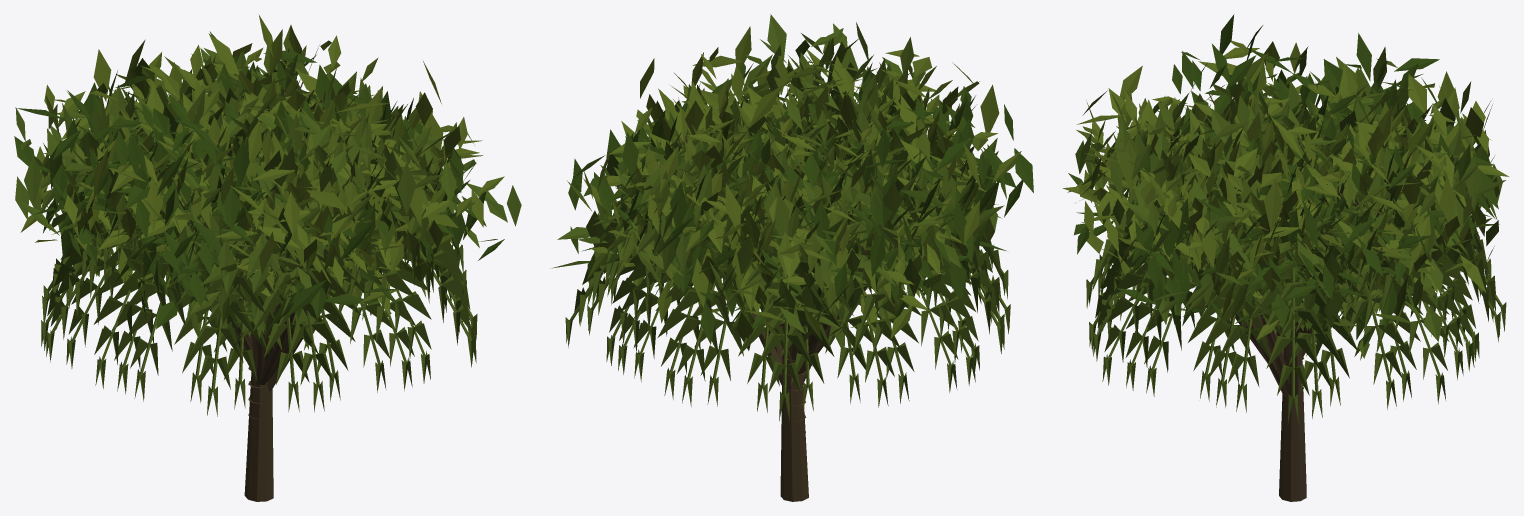
File: vegetation-prototypes.glb
The picture shows the model from 3 angles, left to right: view 1: azimuth 30°, elevation 25°; view 2: azimuth 150°, elevation 25°; view 3: azimuth 270°, elevation 25°; orthographic projection. The views are drawn at different scales.
Visible parts, largest first — view 1: dense-2-leaf2, trimmed-1-leaf1, trimmed-2-leaf2, trimmed-0-leaf0, dense-1-leaf1, dense-0-leaf0, palm-1-palm, palm-0-palm, palm-2-palm, trimmed-1-bark, trimmed-2-bark, pruned-1-bark; view 2: dense-2-leaf2, trimmed-2-leaf2, dense-1-leaf1, trimmed-1-leaf1, trimmed-0-leaf0, dense-0-leaf0, palm-1-palm, palm-2-palm, palm-0-palm, pruned-1-bark, trimmed-2-bark, trimmed-0-bark (+1 smaller); view 3: dense-2-leaf2, dense-1-leaf1, trimmed-0-leaf0, trimmed-1-leaf1, trimmed-2-leaf2, dense-0-leaf0, palm-0-palm, palm-1-palm, palm-2-palm, pruned-1-bark, trimmed-2-bark, trimmed-1-bark (+1 smaller).
Part boxes in pixels (<box>): dense-2-leaf2: <box>36,14,504,306</box>; trimmed-1-leaf1: <box>15,61,521,349</box>; trimmed-2-leaf2: <box>20,39,482,316</box>; trimmed-0-leaf0: <box>14,31,497,307</box>; dense-1-leaf1: <box>34,46,456,351</box>; dense-0-leaf0: <box>34,50,504,328</box>; palm-1-palm: <box>43,165,475,416</box>; palm-0-palm: <box>41,178,476,411</box>; palm-2-palm: <box>42,178,477,409</box>; trimmed-1-bark: <box>246,181,366,501</box>; trimmed-2-bark: <box>210,291,302,501</box>; pruned-1-bark: <box>237,82,338,499</box>; dense-2-leaf2: <box>583,26,979,340</box>; trimmed-2-leaf2: <box>601,49,1021,350</box>; dense-1-leaf1: <box>550,14,1006,354</box>; trimmed-1-leaf1: <box>557,22,1001,348</box>; trimmed-0-leaf0: <box>610,64,1033,344</box>; dense-0-leaf0: <box>568,80,1023,328</box>; palm-1-palm: <box>587,138,1008,421</box>; palm-2-palm: <box>565,133,1010,411</box>; palm-0-palm: <box>578,162,1004,412</box>; pruned-1-bark: <box>658,140,839,501</box>; trimmed-2-bark: <box>784,181,928,501</box>; trimmed-0-bark: <box>752,170,936,498</box>; dense-2-leaf2: <box>1063,64,1509,340</box>; dense-1-leaf1: <box>1080,80,1505,358</box>; trimmed-0-leaf0: <box>1117,14,1499,329</box>; trimmed-1-leaf1: <box>1076,46,1502,328</box>; trimmed-2-leaf2: <box>1077,40,1491,333</box>; dense-0-leaf0: <box>1068,75,1498,356</box>; palm-0-palm: <box>1097,138,1500,423</box>; palm-1-palm: <box>1086,142,1506,418</box>; palm-2-palm: <box>1093,144,1493,412</box>; pruned-1-bark: <box>1267,197,1387,501</box>; trimmed-2-bark: <box>1247,300,1303,500</box>; trimmed-1-bark: <box>1177,184,1375,499</box>.
Size of the model in its own units: 1.08 by 1.12 by 1.09.
